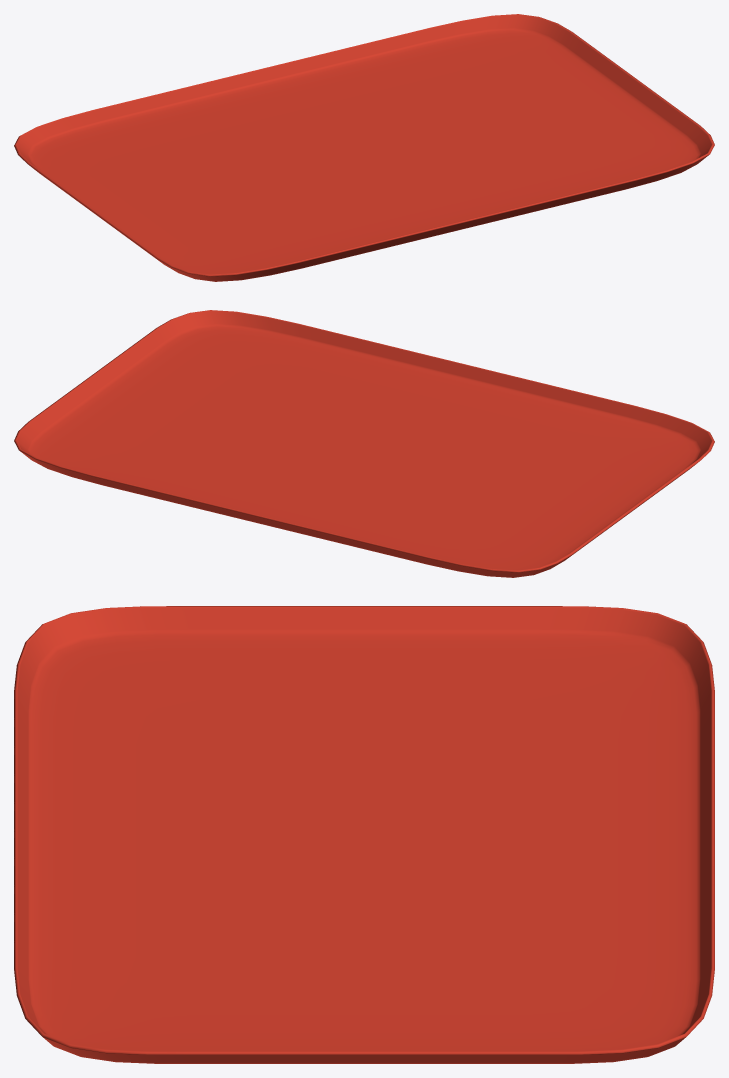
Rendered from tray.fbx.
3 views of the same model, one above another, from view 1: azimuth 30°, elevation 25°; view 2: azimuth 150°, elevation 25°; view 3: azimuth 270°, elevation 25° (orthographic). The views are drawn at different scales.
Parts seen in each view (by area): view 1: Plane; view 2: Plane; view 3: Plane.
Boxes of the visible parts, x1,y1,x2,y2 form: Plane: (14, 14, 714, 281); Plane: (14, 310, 714, 577); Plane: (14, 606, 714, 1063).
Size of the model in its own units: 588 by 14.77 by 389.
